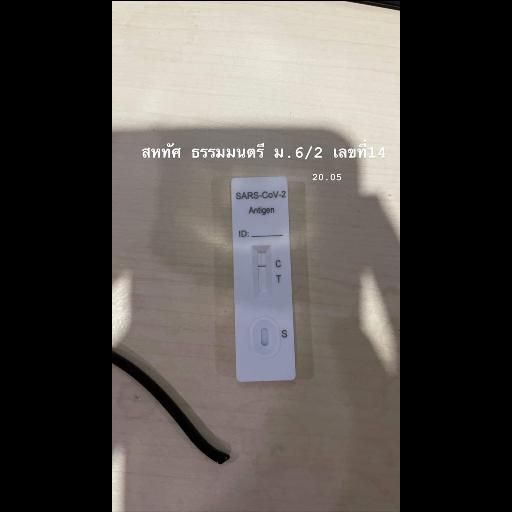Neg: (229, 175, 296, 382)
